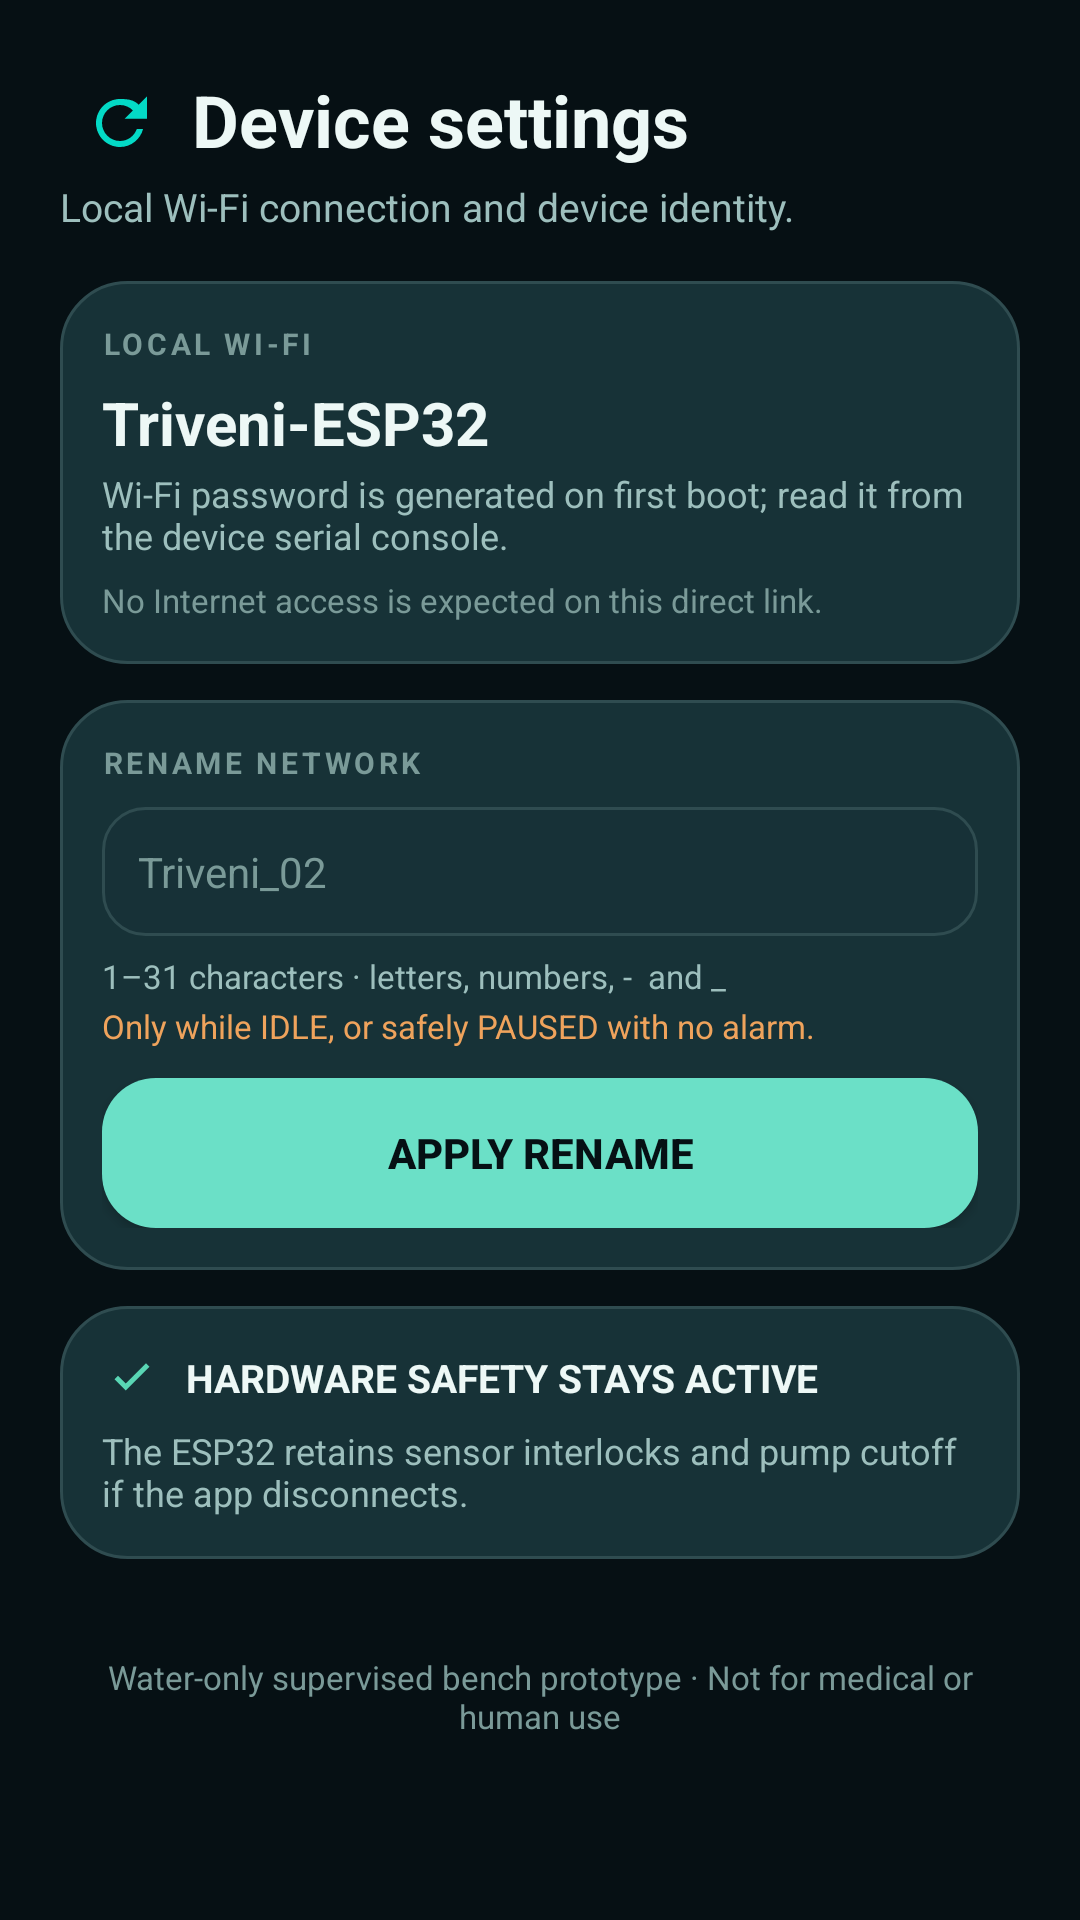

Icons on this 1080×1920 Android screen, each with the point to tap as (x=x, y=y):
check: (x=132, y=1377)
